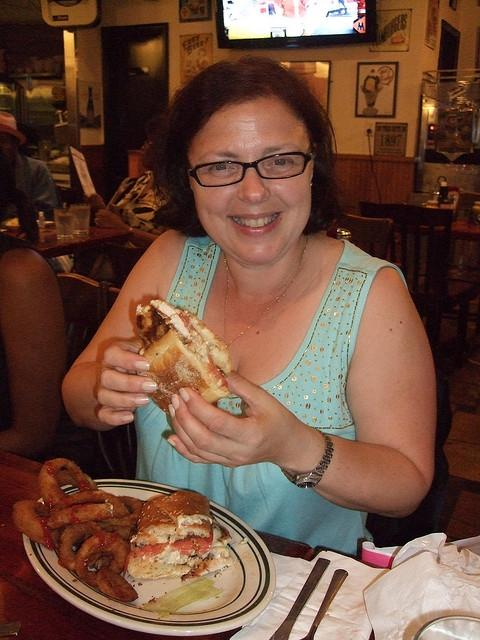onion: (47, 490, 130, 530), (74, 530, 130, 587), (38, 458, 92, 508), (12, 500, 60, 551), (59, 521, 101, 571), (96, 566, 138, 602), (100, 496, 144, 526)
tomato: (123, 542, 169, 578), (170, 524, 214, 555), (206, 354, 228, 388)
